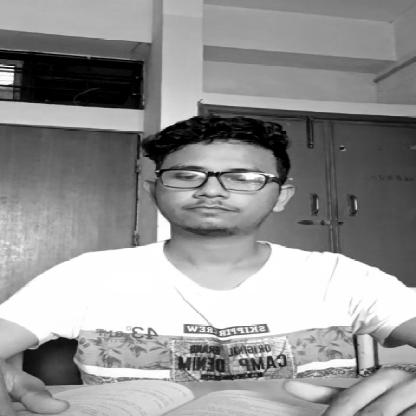Normal: (147, 109, 293, 239)
